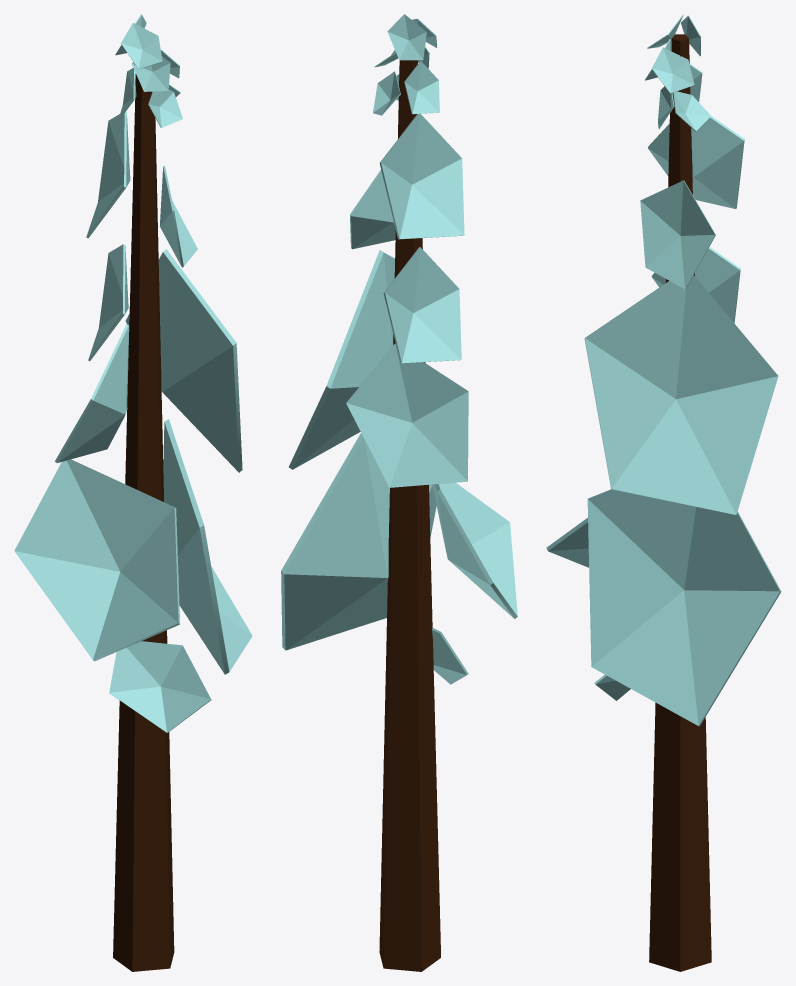
Rendered from Flower_e_01.fbx.
3 renders of one model, left to right at view 1: azimuth 30°, elevation 25°; view 2: azimuth 150°, elevation 25°; view 3: azimuth 270°, elevation 25°, orthographic.
Visible parts, largest first — view 1: Flower_e_01_LOD0; view 2: Flower_e_01_LOD0; view 3: Flower_e_01_LOD0.
Part boxes in pixels (box(x1,y1,x2,y2)): Flower_e_01_LOD0: box(14, 14, 252, 971); Flower_e_01_LOD0: box(281, 14, 517, 971); Flower_e_01_LOD0: box(546, 14, 781, 971).
Size of what is drawn, in the model's own units: 0.8807 by 3.54 by 0.8.
